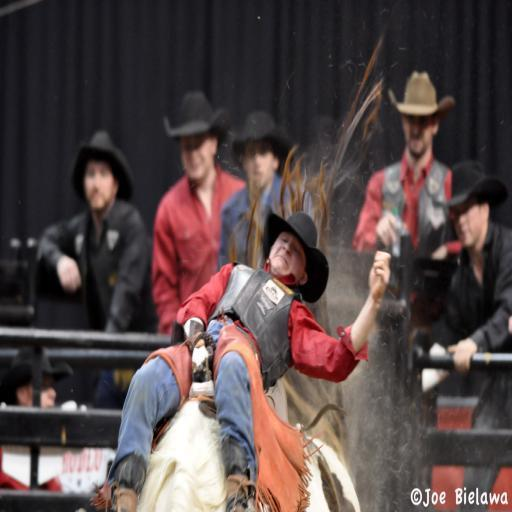horse: (134, 36, 382, 512)
